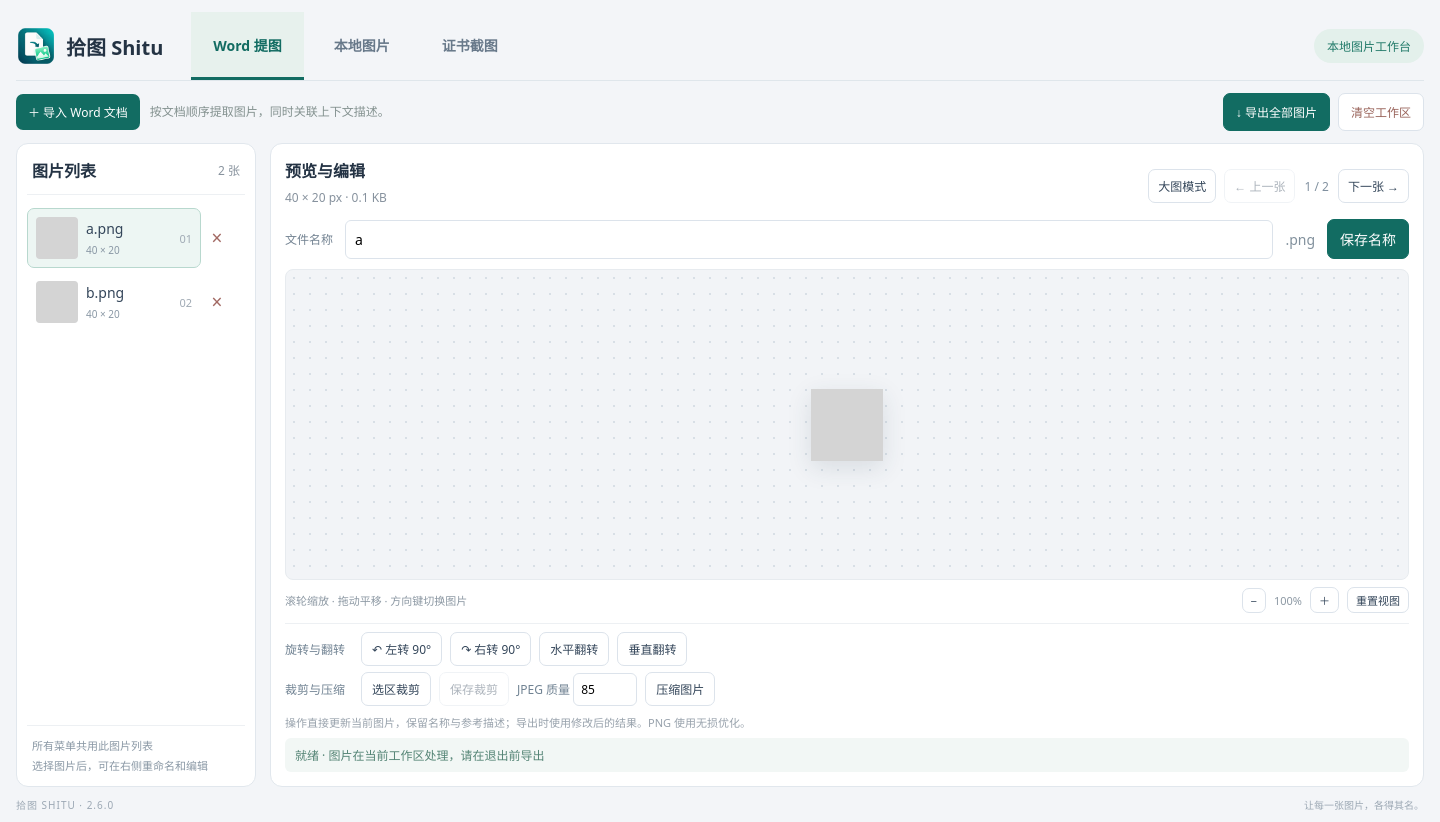
Test: workspace actions › updates the existing image URL after editing without creating a list item
The width and height of the screenshot is (1440, 822).
Click the button "↷ 右转 90°" at (491, 649), box top-left (450, 632), bottom-right (531, 666)
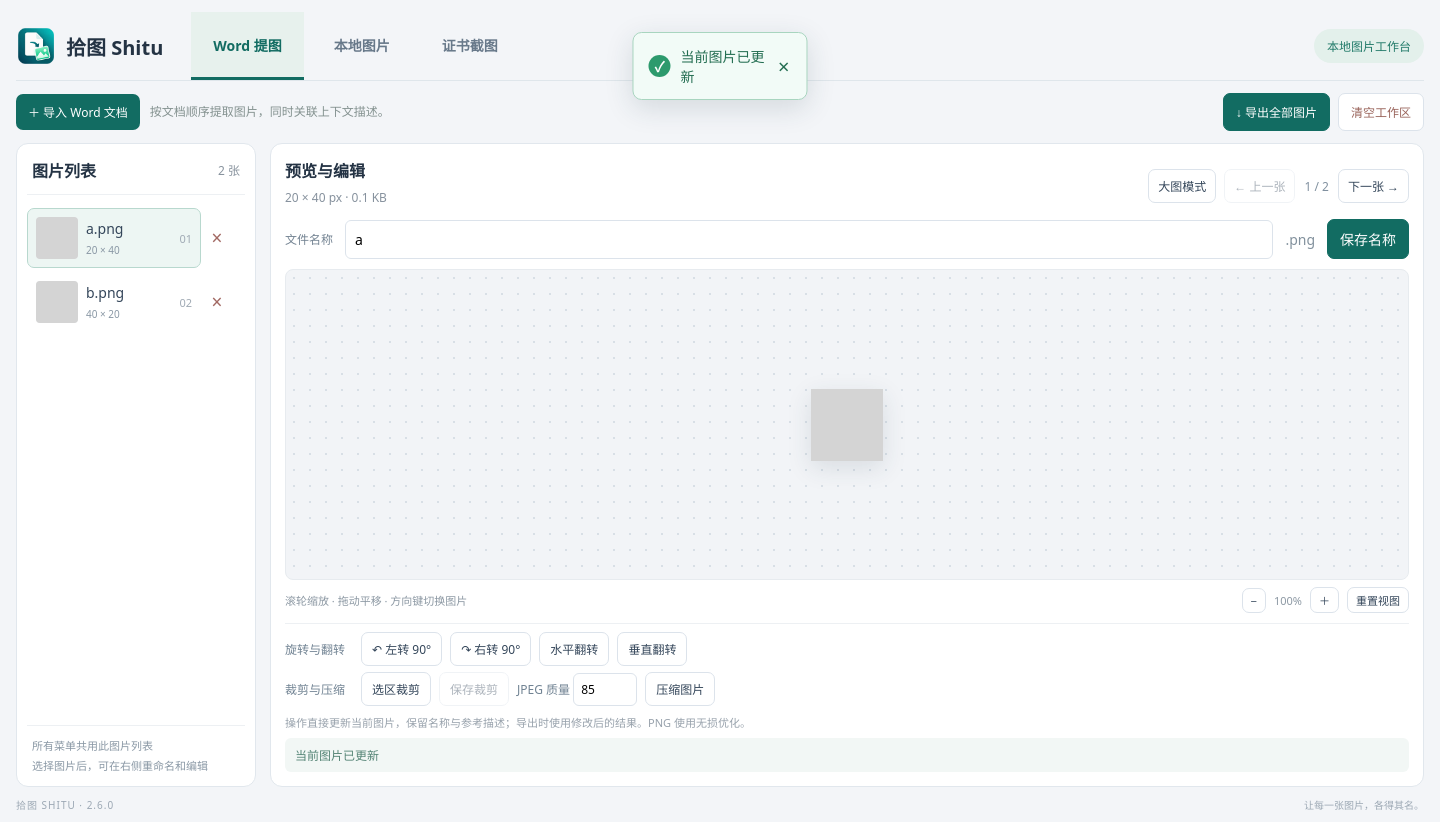
Expected: the number of elements with class "image-row" is 2, top-left (27, 208), bottom-right (230, 268); top-left (27, 272), bottom-right (230, 332)
Now the text "20 × 40" is shown, box top-left (86, 243), bottom-right (120, 257)
Now the message "当前图片已更新" is shown, box top-left (285, 738), bottom-right (1409, 772)
